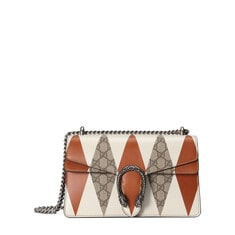Gucci: (55, 116, 214, 222), (111, 160, 155, 213), (147, 139, 174, 209)
